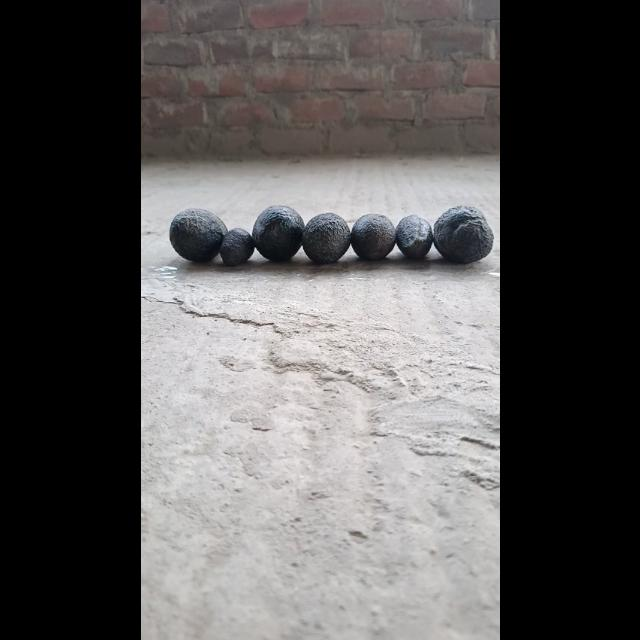Primera: (431, 205, 493, 263), (167, 208, 226, 262), (250, 204, 304, 260), (300, 212, 350, 264)
Segunda: (348, 212, 396, 260), (394, 214, 434, 258)
Tercera: (218, 227, 252, 267)
